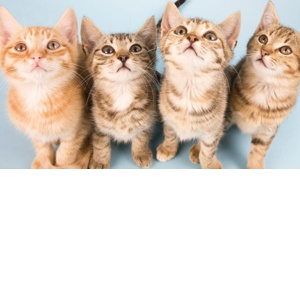cat: (0, 6, 93, 158), (163, 7, 230, 165), (97, 19, 153, 159), (252, 5, 300, 162)
